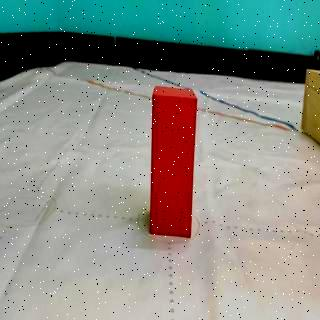redbox: (149, 85, 198, 238)
